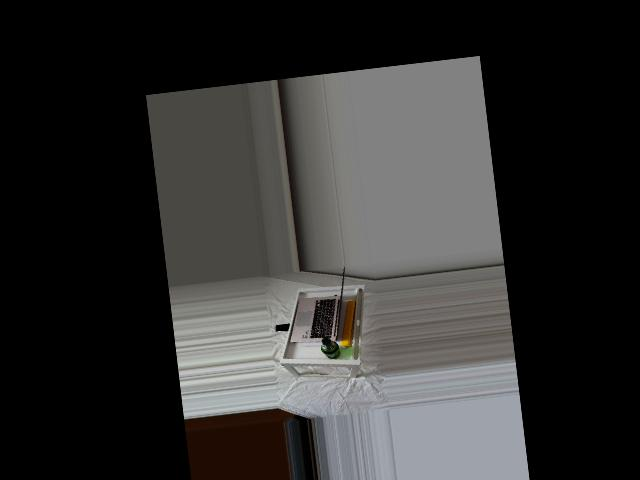beer: (319, 336, 341, 360)
